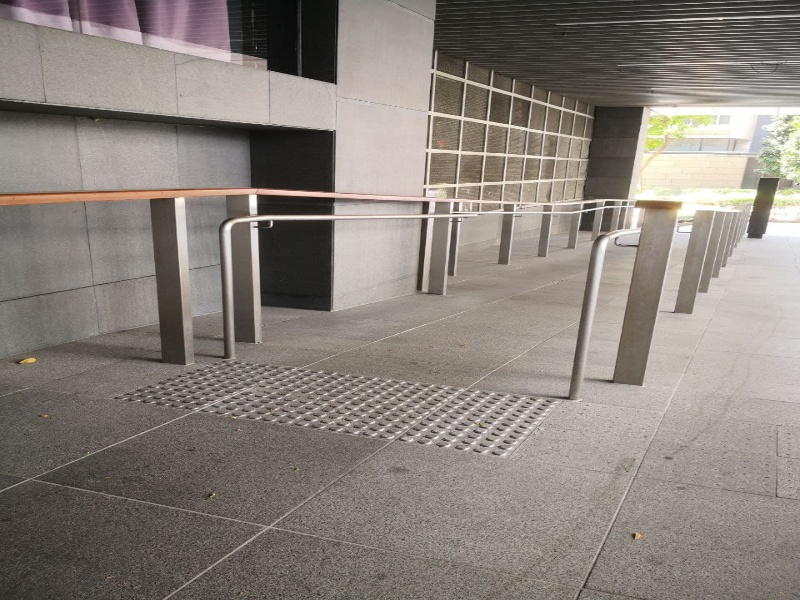slope: (218, 209, 752, 360)
